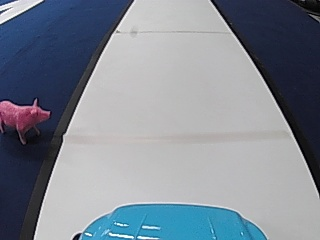pig: (2, 94, 51, 143)
